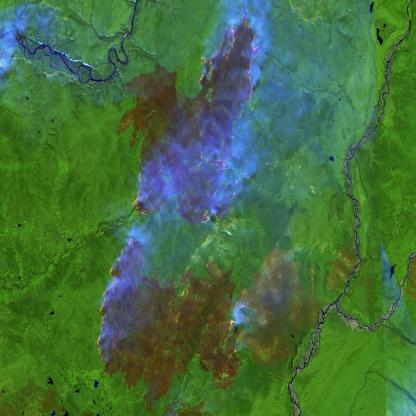fire: (130, 5, 264, 226), (91, 235, 148, 376), (218, 308, 242, 347)
